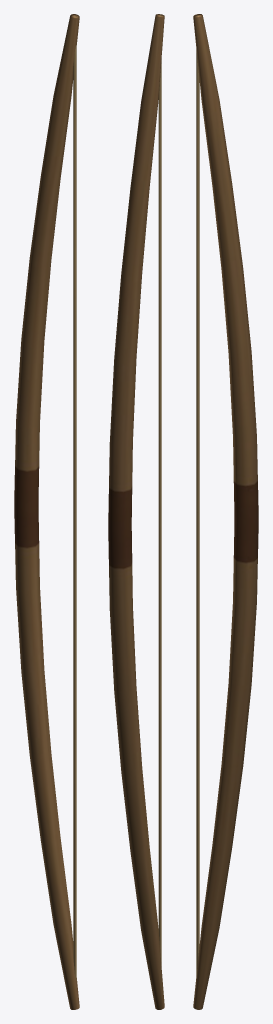
Rendered from arc-long.glb.
3 views of the same model, side by side, from view 1: azimuth 90°, elevation 25°; view 2: azimuth 150°, elevation 25°; view 3: azimuth 270°, elevation 25° (orthographic).
Parts seen in each view (by area): view 1: arc-long; view 2: arc-long; view 3: arc-long.
Boxes of the visible parts, x1,y1,x2,y2 form: arc-long: (14,14,79,1009); arc-long: (108,14,164,1009); arc-long: (193,14,258,1009).
Size of the model in its own units: 0.058 by 1.8 by 0.1079.
1 material, 1 textured.
